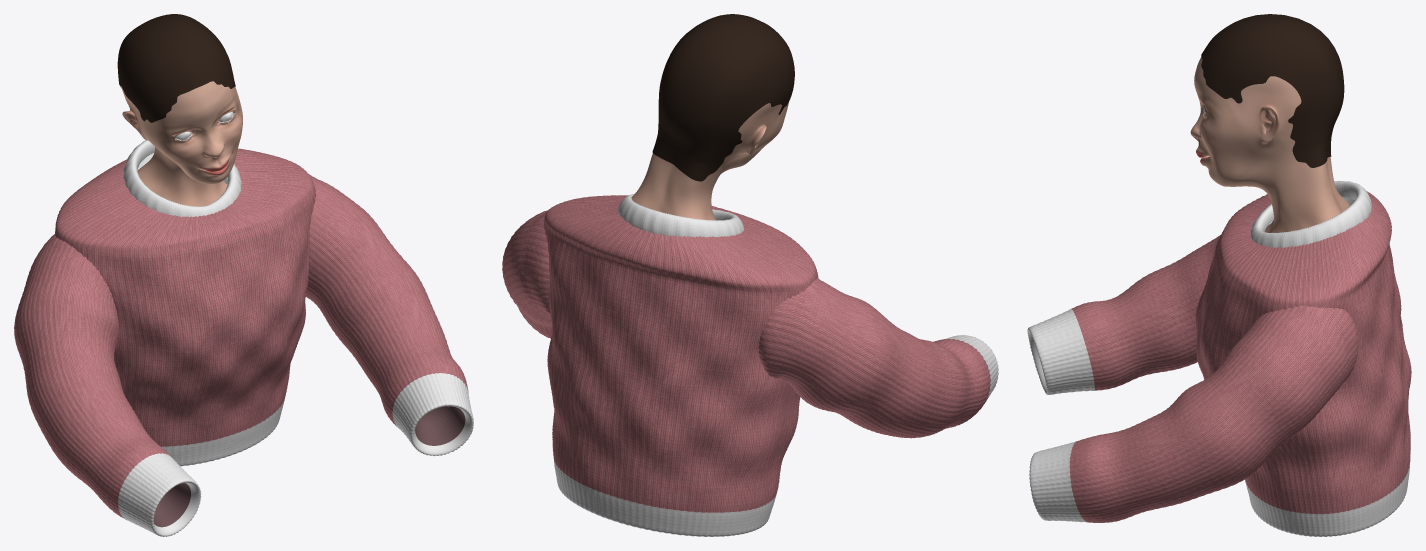
The model's file is character.glb.
3 renders of one model, left to right at view 1: azimuth 30°, elevation 25°; view 2: azimuth 150°, elevation 25°; view 3: azimuth 270°, elevation 25°, orthographic. The views are drawn at different scales.
Visible parts, largest first — view 1: Sweater_Torso, Sweater_Sleeve_R, Sweater_Sleeve_L, Character_Body, Hair_Scalp_Cap, Sweater_Collar; view 2: Sweater_Torso, Sweater_Sleeve_R, Hair_Scalp_Cap, Character_Body, Sweater_Sleeve_L, Sweater_Collar; view 3: Sweater_Torso, Sweater_Sleeve_L, Sweater_Sleeve_R, Character_Body, Hair_Scalp_Cap, Sweater_Collar.
Boxes of the visible parts, x1,y1,x2,y2 form: Sweater_Torso: (54, 148, 315, 466); Sweater_Sleeve_R: (14, 234, 201, 536); Sweater_Sleeve_L: (305, 174, 473, 456); Character_Body: (121, 81, 242, 206); Hair_Scalp_Cap: (117, 14, 235, 122); Sweater_Collar: (123, 140, 241, 217); Sweater_Torso: (543, 195, 818, 536); Sweater_Sleeve_R: (758, 278, 998, 438); Hair_Scalp_Cap: (652, 14, 794, 181); Character_Body: (631, 102, 788, 220); Sweater_Sleeve_L: (502, 210, 552, 338); Sweater_Collar: (618, 193, 743, 237); Sweater_Torso: (1195, 191, 1411, 536); Sweater_Sleeve_L: (1029, 305, 1358, 522); Sweater_Sleeve_R: (1027, 235, 1220, 394); Character_Body: (1190, 57, 1349, 232); Hair_Scalp_Cap: (1201, 14, 1344, 167); Sweater_Collar: (1250, 181, 1371, 247).
Bounding box in the file's own units: 0.6119 × 0.6659 × 0.5001.
9 materials, 3 textured.
